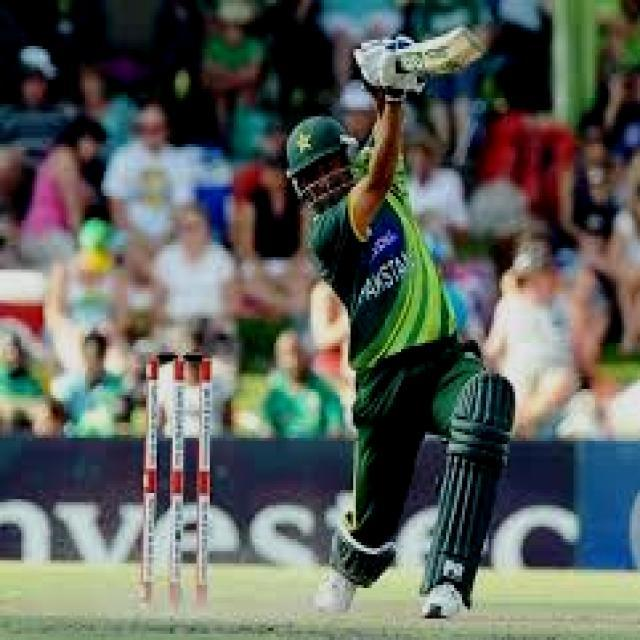bat: (382, 28, 498, 73)
toe: (460, 28, 489, 59)
